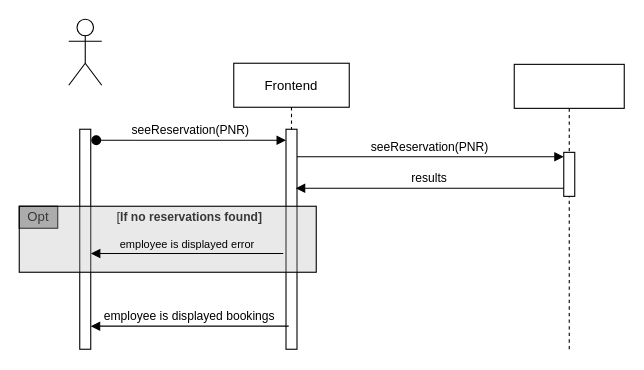
Some shapes in this 644 by 370 pixel diagram are drawn without their labels. Here are the shapes that lost their labels. From the top down, the centre of each, then its label:
point 85,51: Employee
point 568,206: Backend
